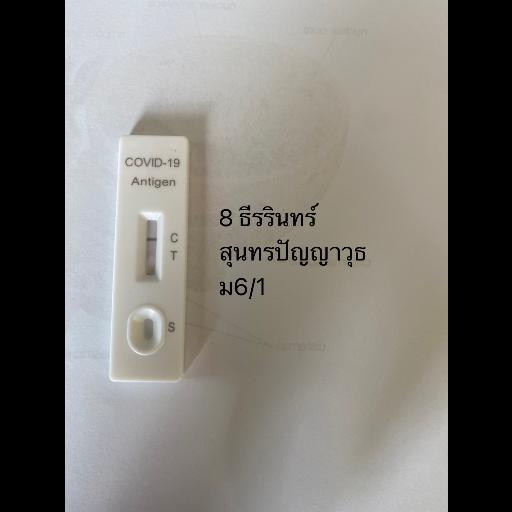Neg: (114, 135, 188, 383)
